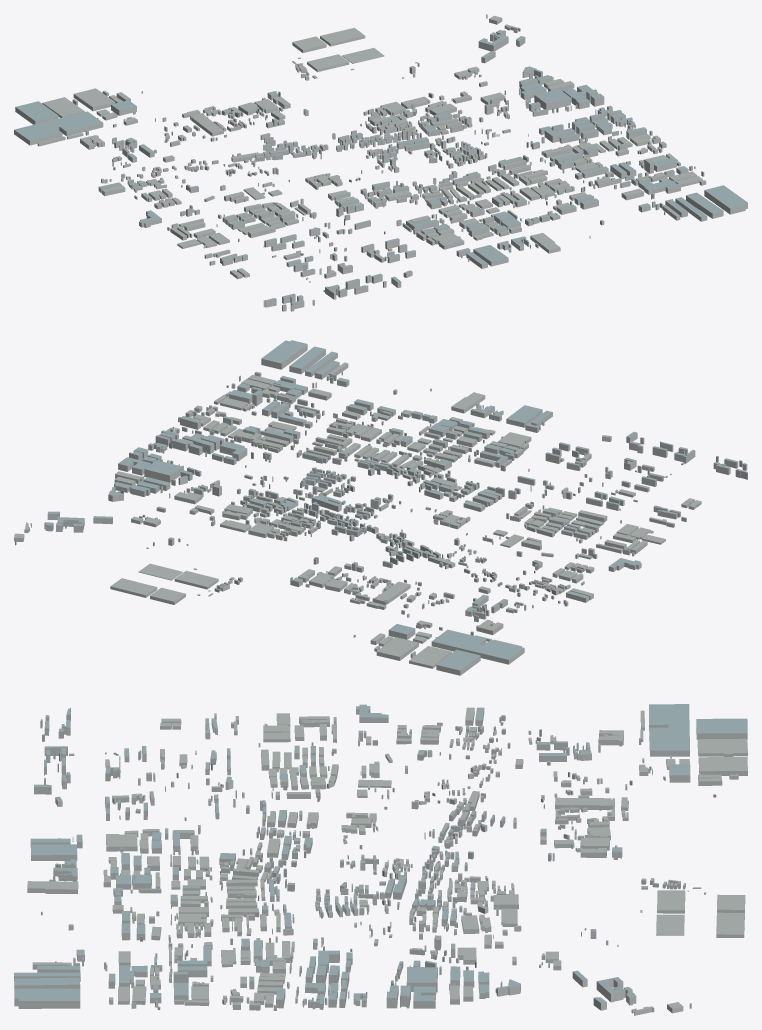
The model's file is far.glb.
The picture shows the model from 3 angles, top to bottom: view 1: azimuth 30°, elevation 25°; view 2: azimuth 150°, elevation 25°; view 3: azimuth 270°, elevation 25°; orthographic projection. The views are drawn at different scales.
Bounding box in the file's own units: 2182 × 44.04 × 2213.
